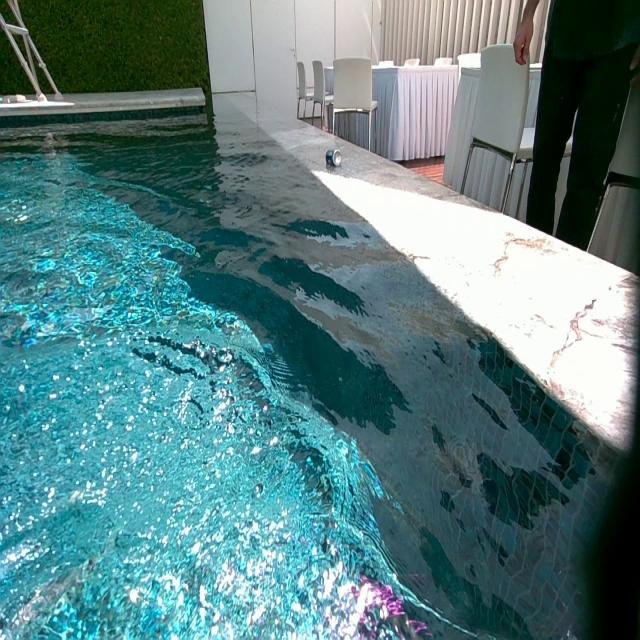Cans: (325, 148, 341, 164)
